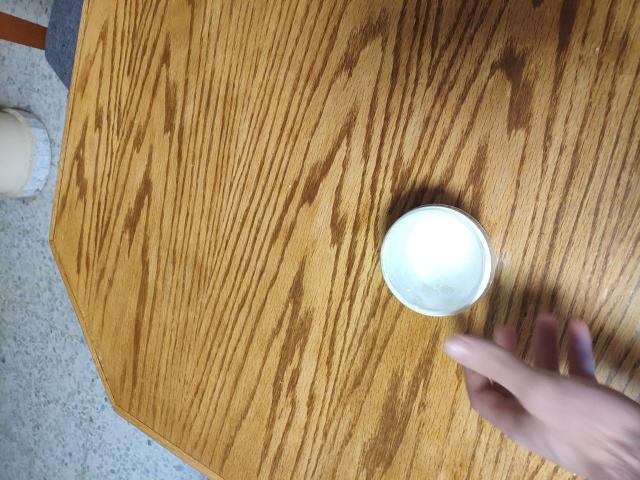cotage: (355, 184, 518, 323)
